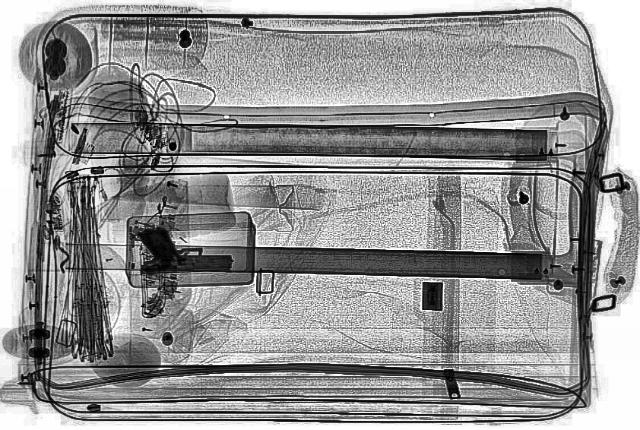Gun: (136, 225, 232, 273)
